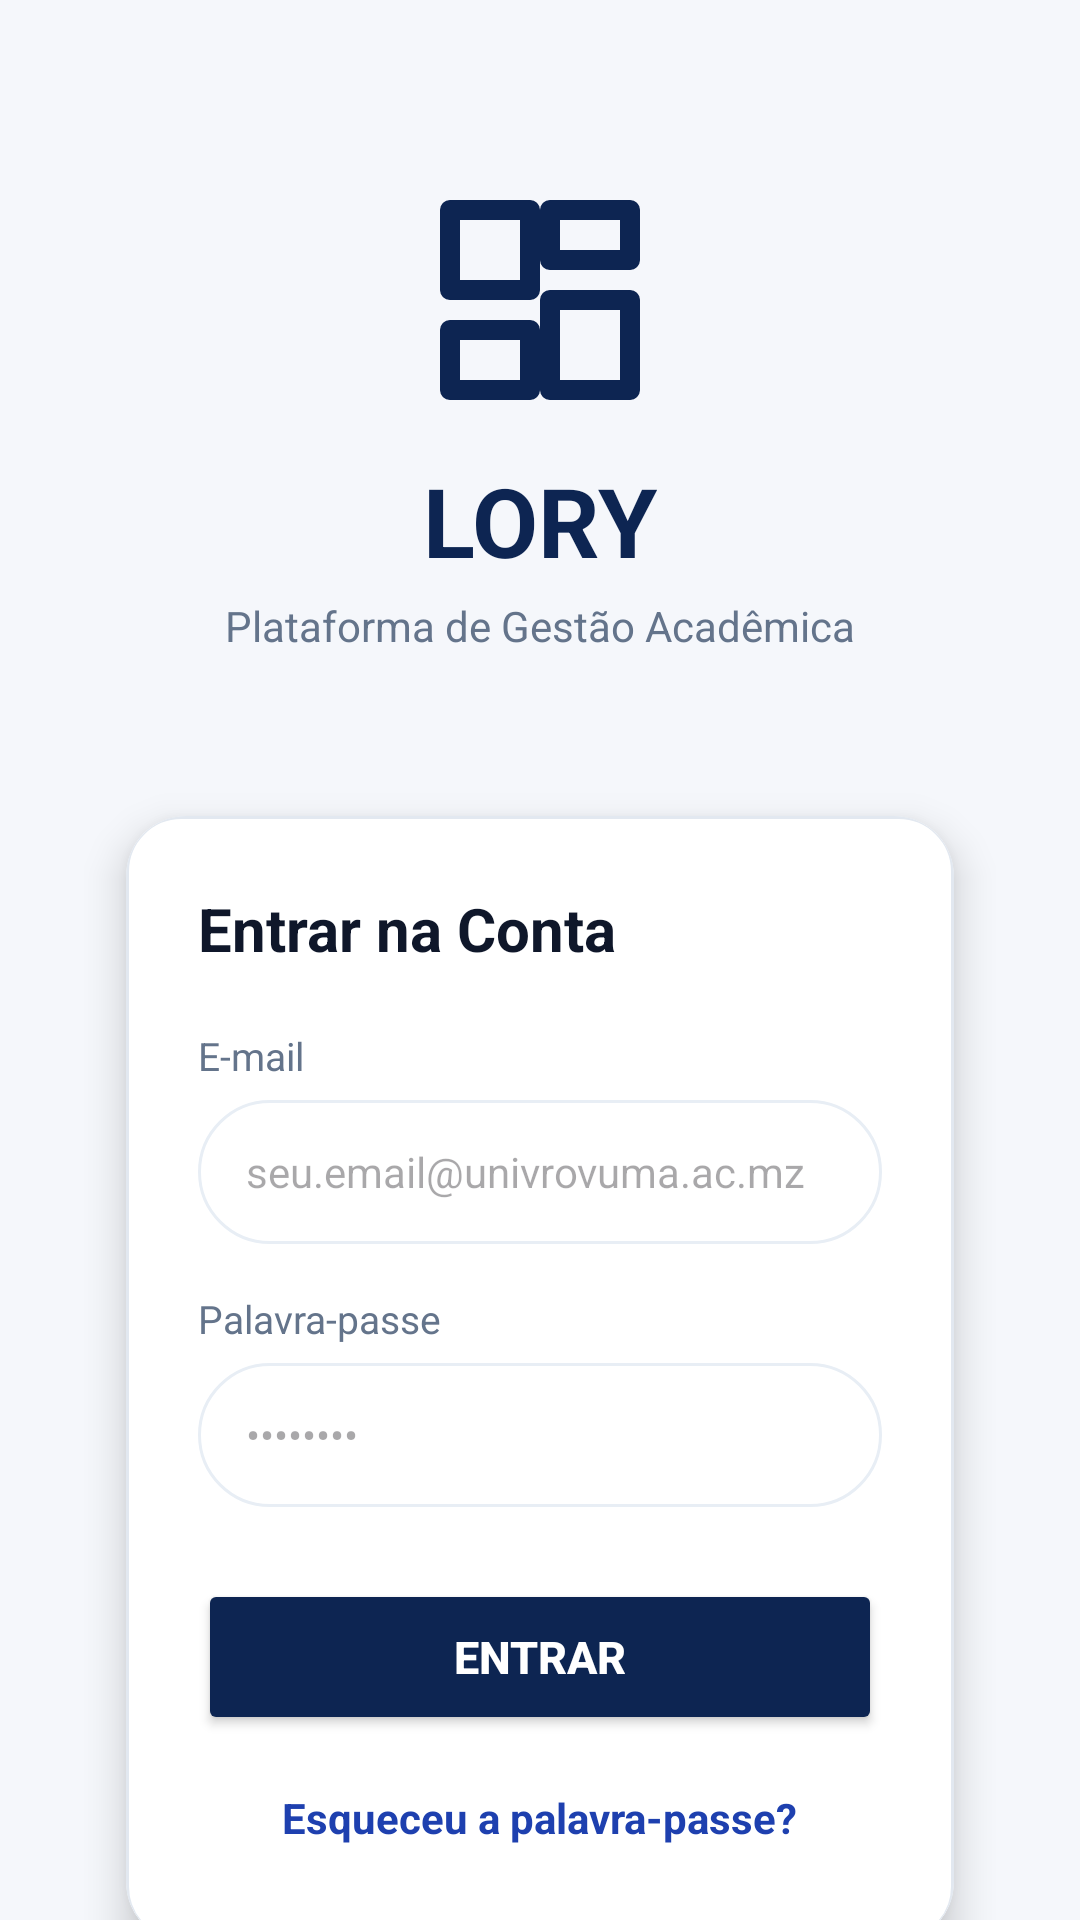

Where to tap for icons on this 1080*1920 app screen, as point (x, y):
dashboard: point (540, 300)
